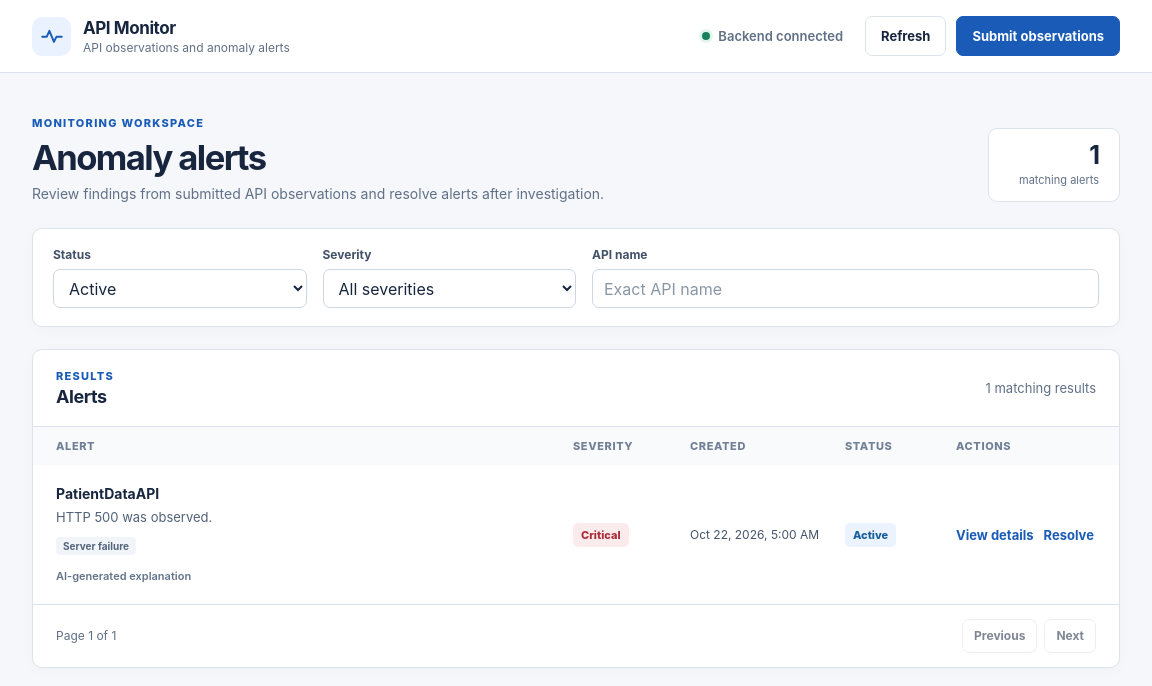
Test: refresh failure keeps existing alerts visible and reports backend unavailability
expect the text "PatientDataAPI" is shown: met, box [56,486,159,502]
Click the button "Refresh". click: (906, 36)
box: [865,16,946,56]
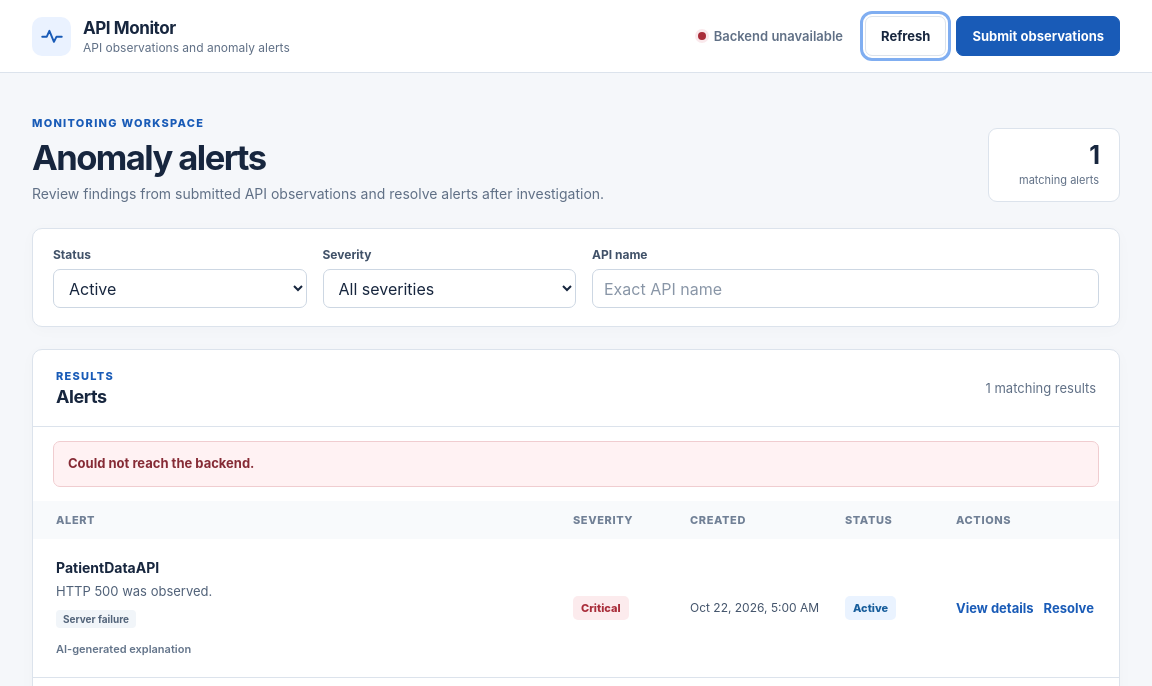
expect the text "PatientDataAPI" is shown: met, box [56,559,159,576]
expect the text "Backend unavailable" is shown: met, box [698,28,843,44]
expect the text "Could not reach the backend." is shown: met, box [68,456,254,472]
